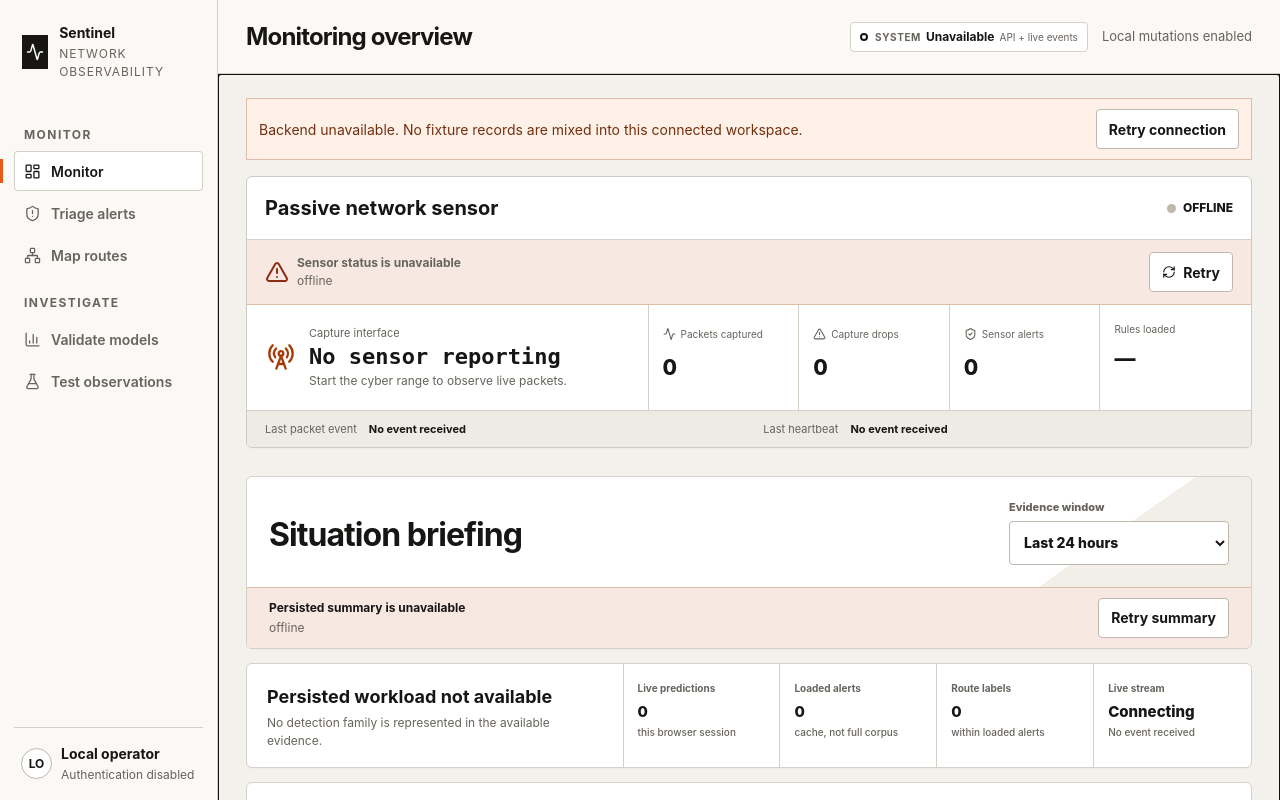
Test: dashboard › navigates between the investigation pages
This screenshot has width=1280, height=800.
Expected: the heading "Monitoring overview" is shown, left=246, top=18, right=472, bottom=54
Click the link "Triage alerts".
click(80, 213)  # box left=24, top=204, right=136, bottom=222
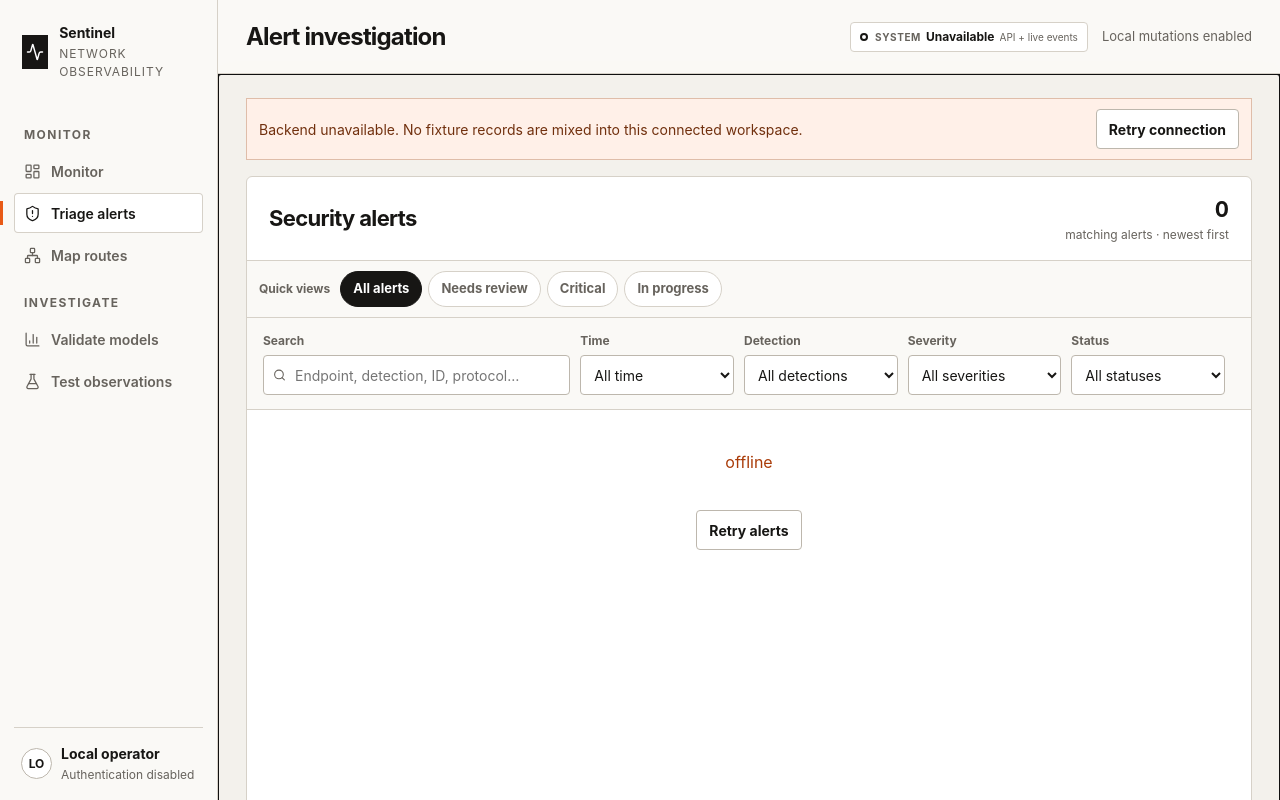
Expected: the heading "Alert investigation" is shown, left=246, top=18, right=446, bottom=54
Expected: the table named "Security alerts" is shown, left=246, top=589, right=393, bottom=619
